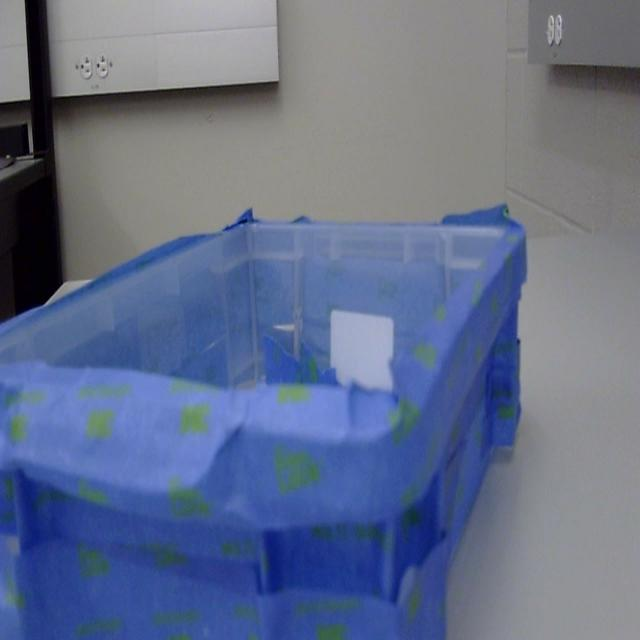bucket: (0, 208, 528, 640)
